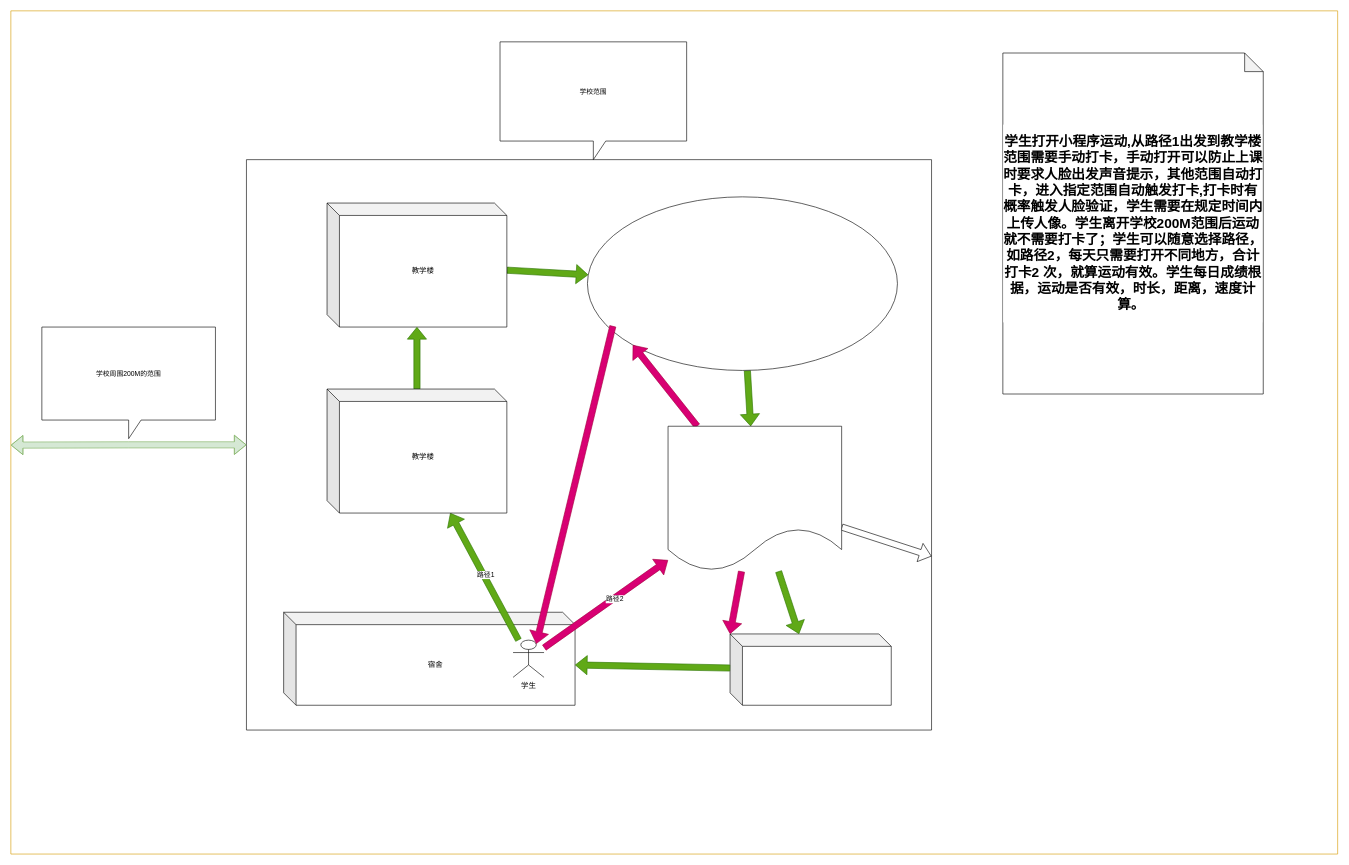
Image size: 1349x865. Some labels were removed from this diagram. Here are the shapes that lost their labels. From the top down, the centre of each, then its label:
[742,283]: 运动场
[754,498]: 公园
[810,669]: 食堂
